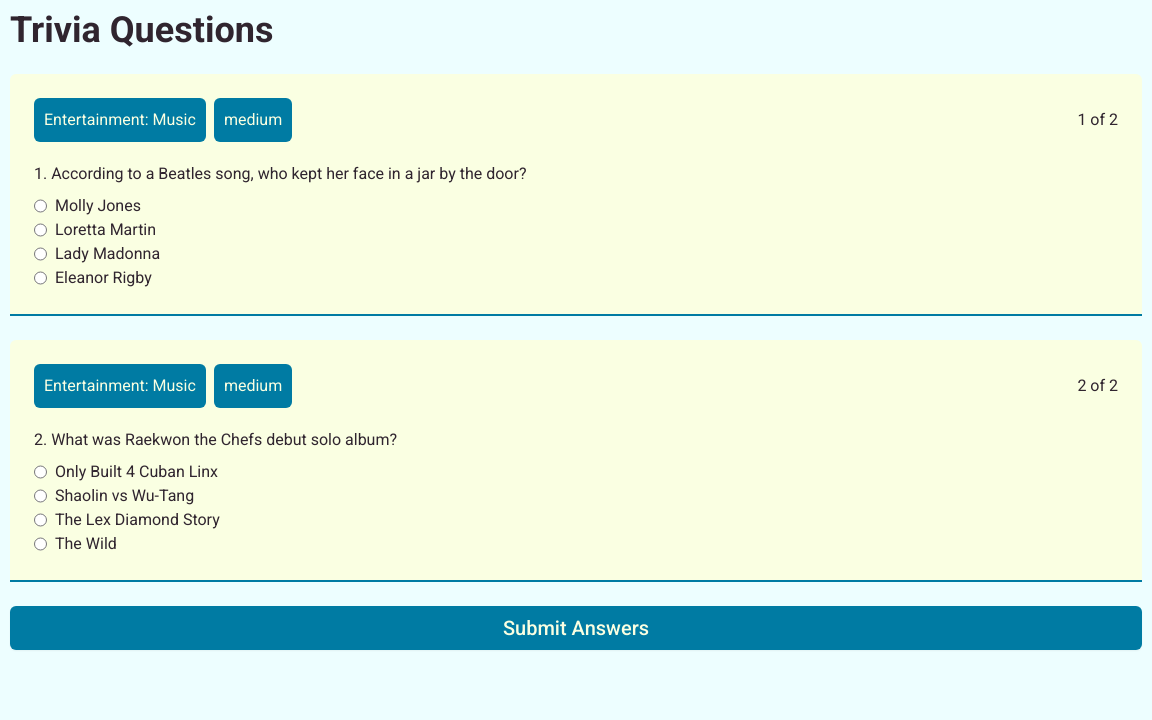
Test: Trivia Questions Page › should show validation errors if no answer is selected
This screenshot has width=1152, height=720.
Click the submit button at (576, 628), box [10,606,1142,650]
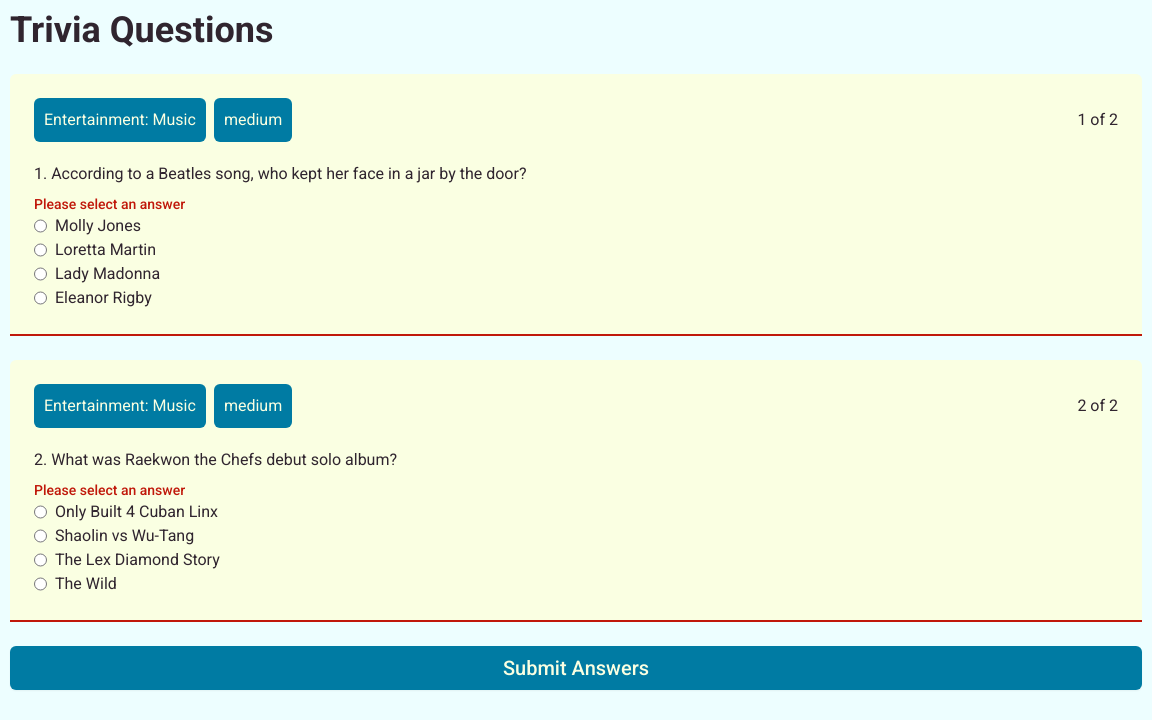
expect the 1st text "Please select an answer" is shown: met, box [34,196,185,212]
